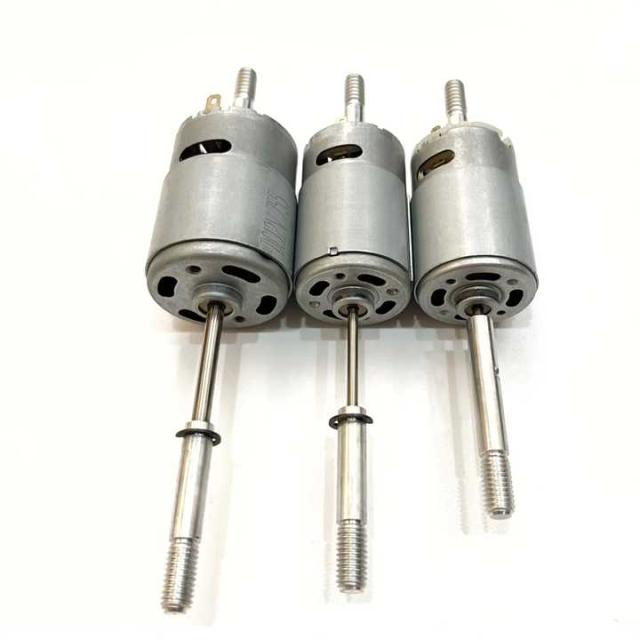motor: (142, 72, 295, 611), (416, 84, 566, 582), (292, 78, 412, 587)
